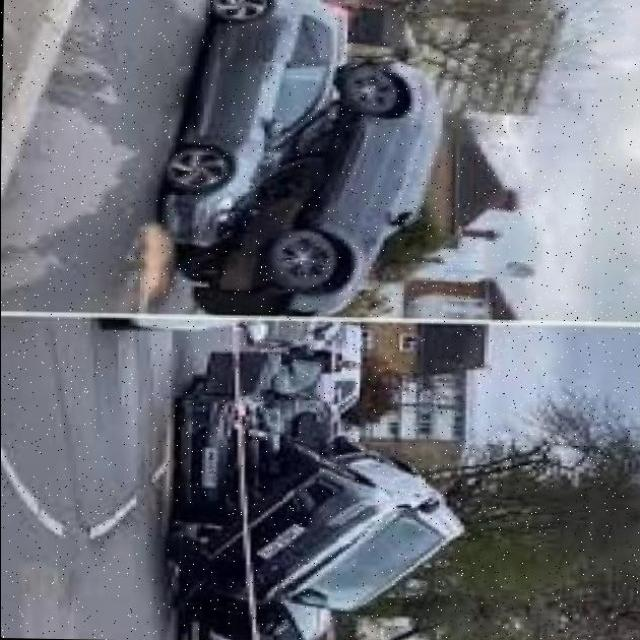accident: (171, 57, 425, 319), (182, 397, 436, 615)
